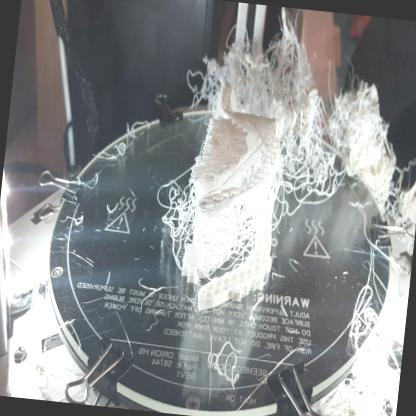fail: (201, 18, 317, 124), (197, 162, 287, 273), (283, 102, 343, 196)
